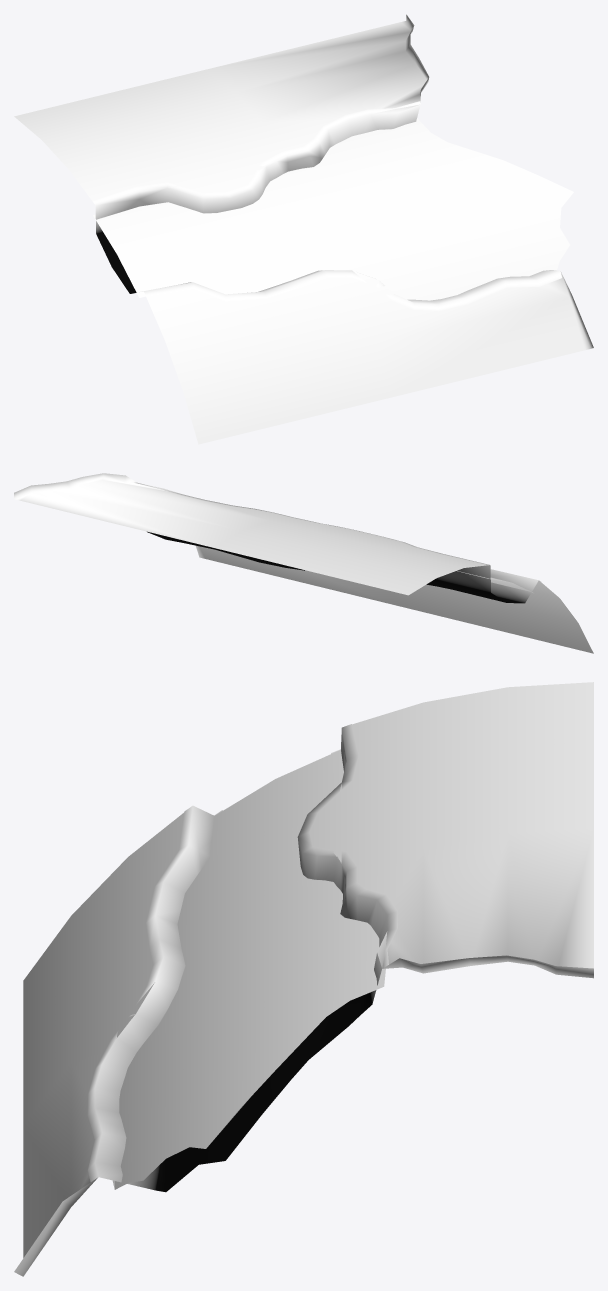
File: grd_Rw_F_2.dae
3 views of the same model, one above another, from view 1: azimuth 30°, elevation 25°; view 2: azimuth 150°, elevation 25°; view 3: azimuth 270°, elevation 25° (orthographic). The views are drawn at different scales.
Parts seen in each view (by area): view 1: grass_1_0, river_2_0, cliff_river_0_0, river_edge_3_0; view 2: grass_1_0, cliff_river_0_0; view 3: grass_1_0, river_2_0, cliff_river_0_0, river_edge_3_0.
Boxes of the visible parts, <box> form: grass_1_0: <box>14,14,593,444</box>; river_2_0: <box>93,118,573,300</box>; cliff_river_0_0: <box>92,101,561,311</box>; river_edge_3_0: <box>93,118,573,297</box>; grass_1_0: <box>14,473,593,653</box>; cliff_river_0_0: <box>134,482,540,603</box>; grass_1_0: <box>14,682,593,1276</box>; river_2_0: <box>114,750,385,1189</box>; cliff_river_0_0: <box>87,724,397,1192</box>; river_edge_3_0: <box>112,749,384,1189</box>.
Size of the model in its own units: 576 by 252 by 430.
Materials: 4 (1 with a texture image).
